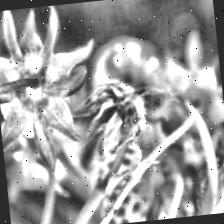Gray Mold: (69, 77, 156, 153)
